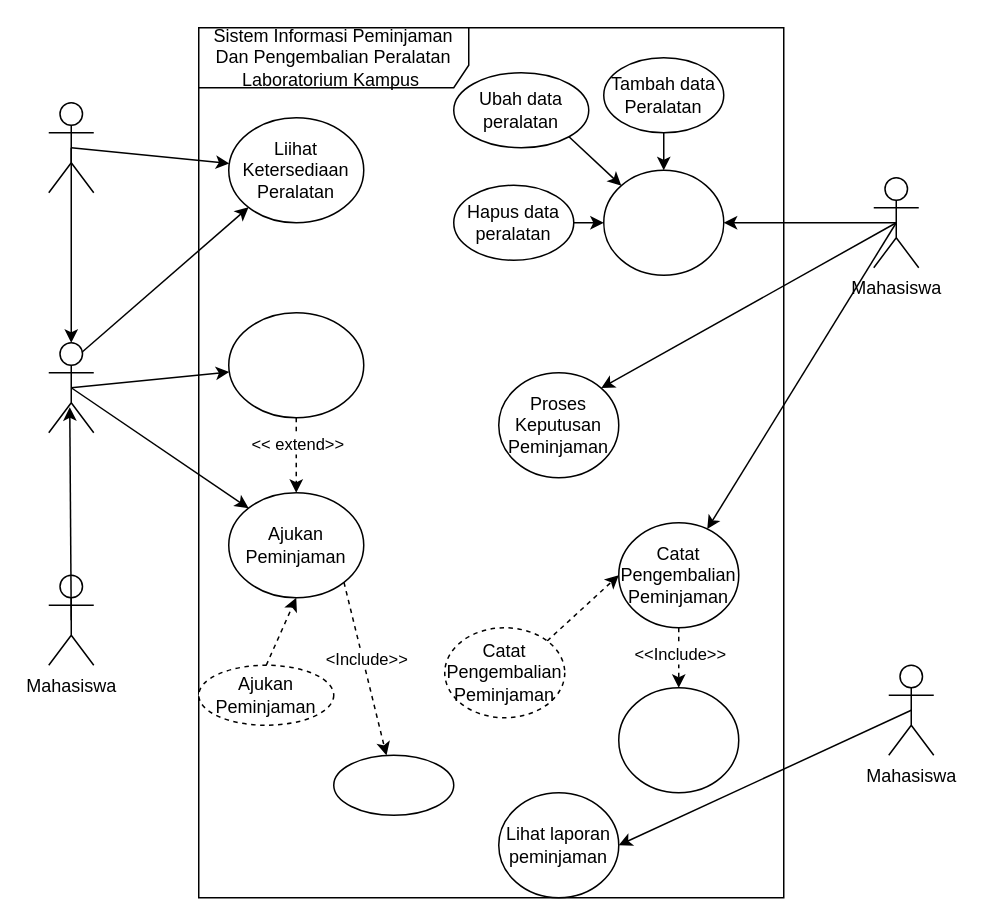
This 981x924 diagram has some shape labels left out. Each missing label, with the centre of its shape:
"Cetak Bukti Pengajuan" goes at point (295, 364).
"Dosen" goes at point (70, 147).
"Kelola data Peralatan" goes at point (663, 222).
"Peminjam" goes at point (70, 387).
"Periksa Ketersediaan" goes at point (393, 784).
"Periksa kondisi Peralatan" goes at point (678, 739).
